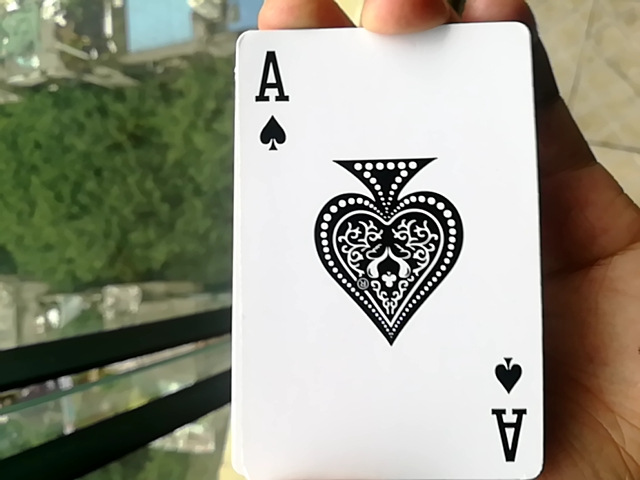ht a: (216, 41, 556, 479)
